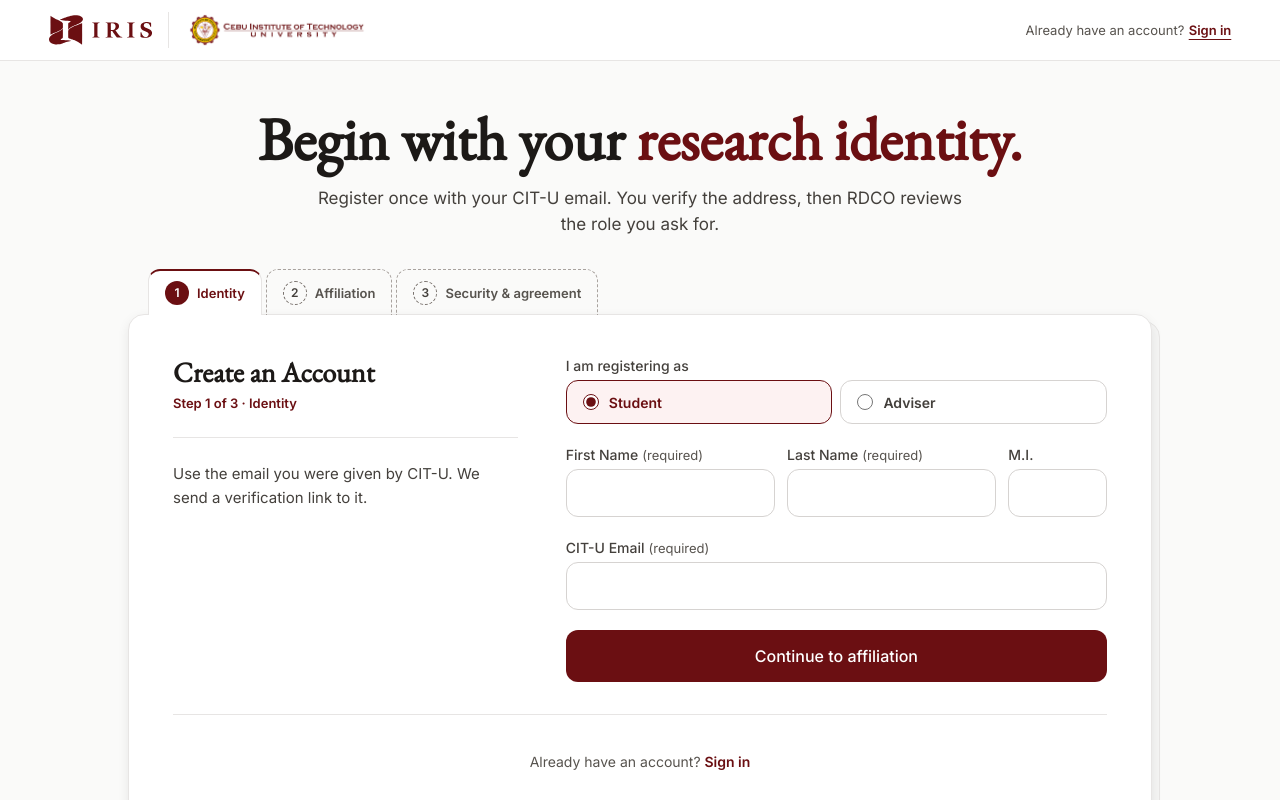
the register steps › moves focus to the step heading, and marks the finished step completed
Type " Juan " into the field labelled "First Name".
click(670, 493); type(" Juan ")  # box [566,469,775,517]
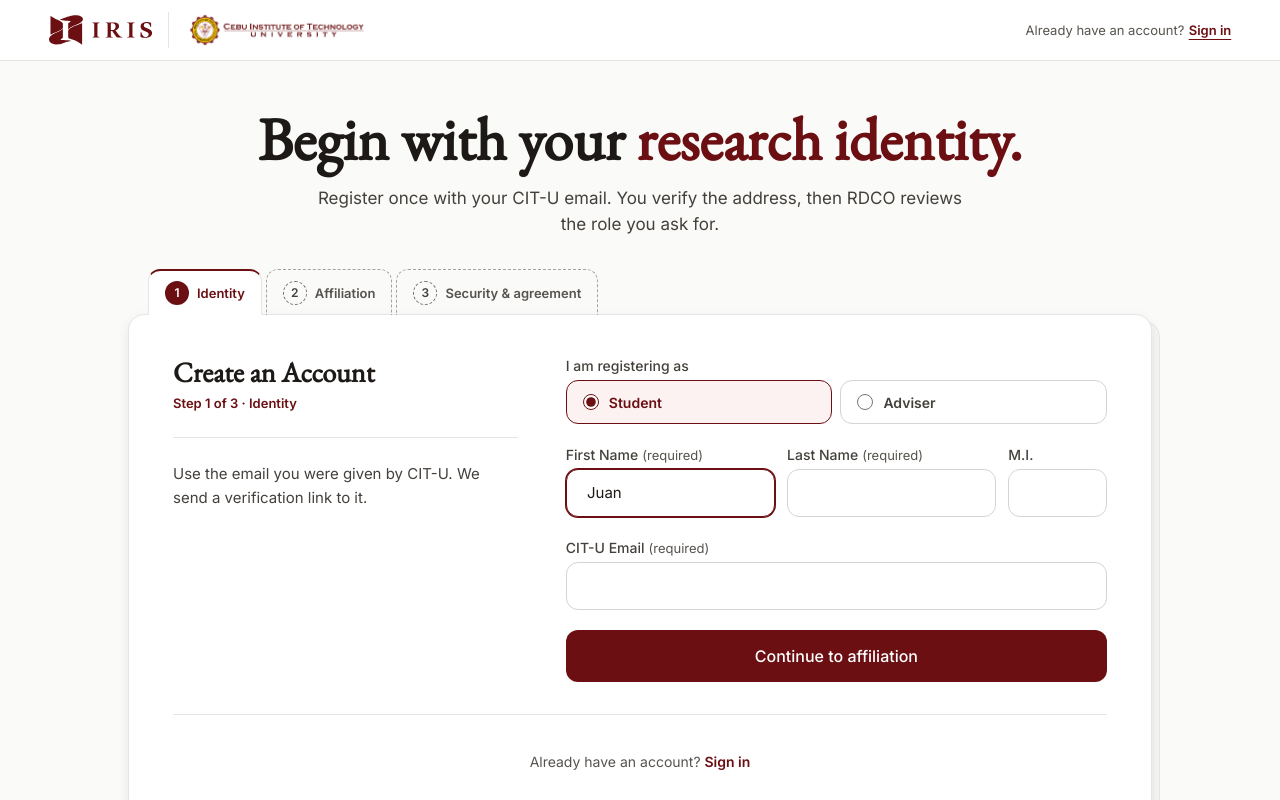
Type "Dela Cruz" into the field labelled "Last Name".
click(892, 493); type("Dela Cruz")  # box [787,469,996,517]
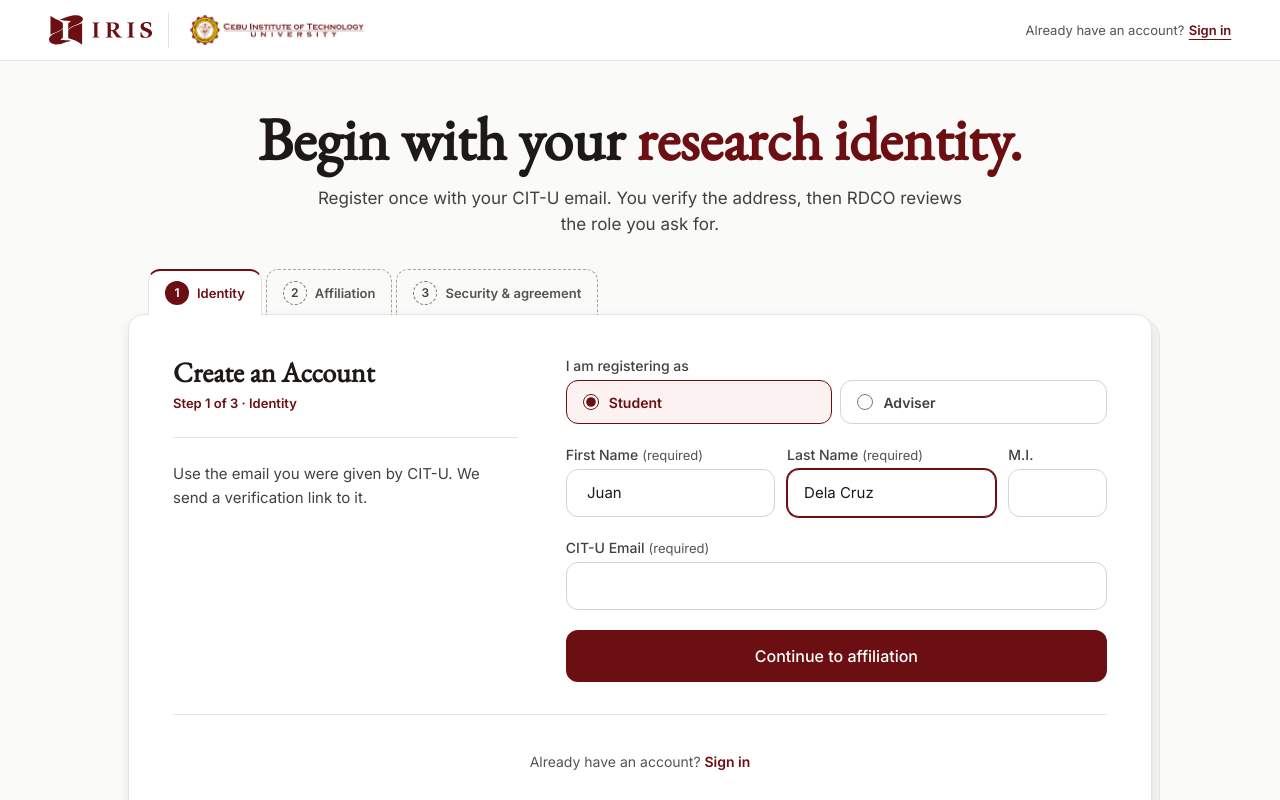
Type "S." into the field labelled "M.I.".
click(1058, 493); type("S.")  # box [1008,469,1107,517]
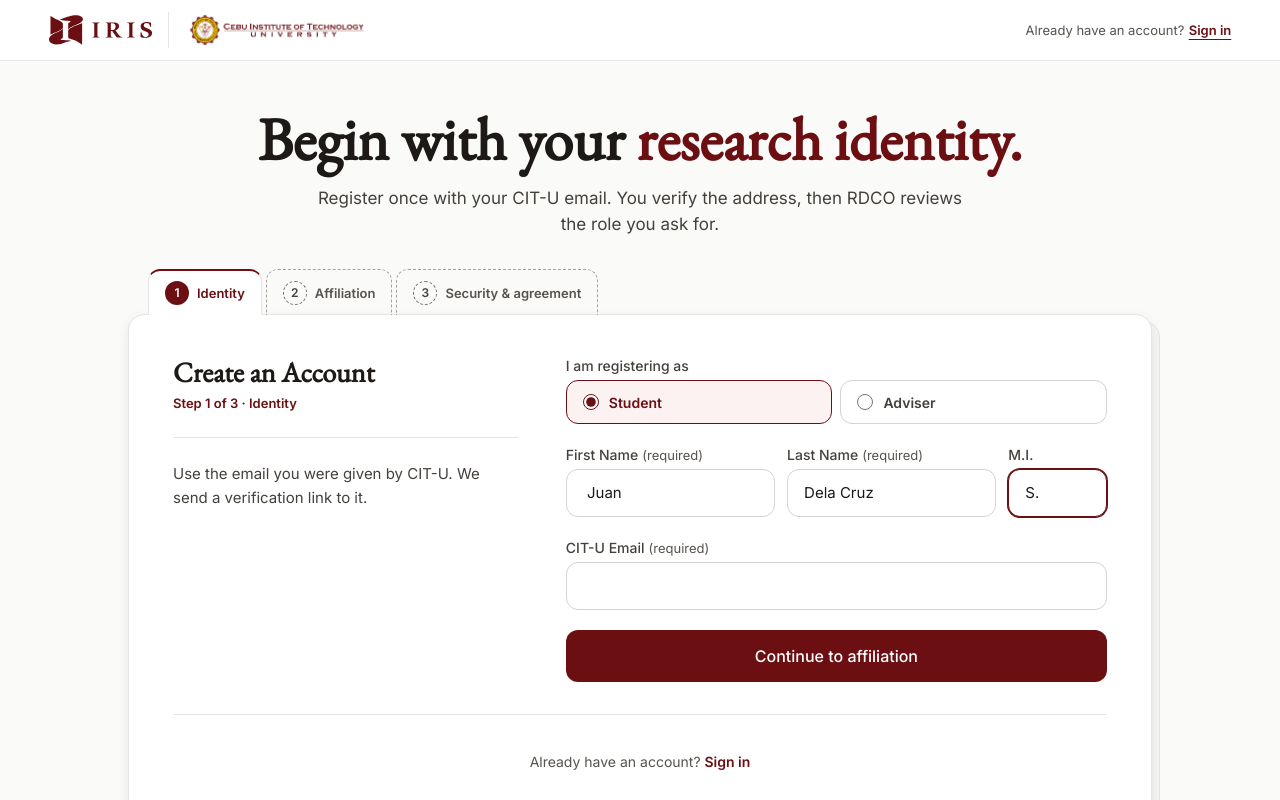
Type "juan@cit.edu" into the field labelled "CIT-U Email".
click(836, 586); type("juan@cit.edu")  # box [566,562,1107,610]
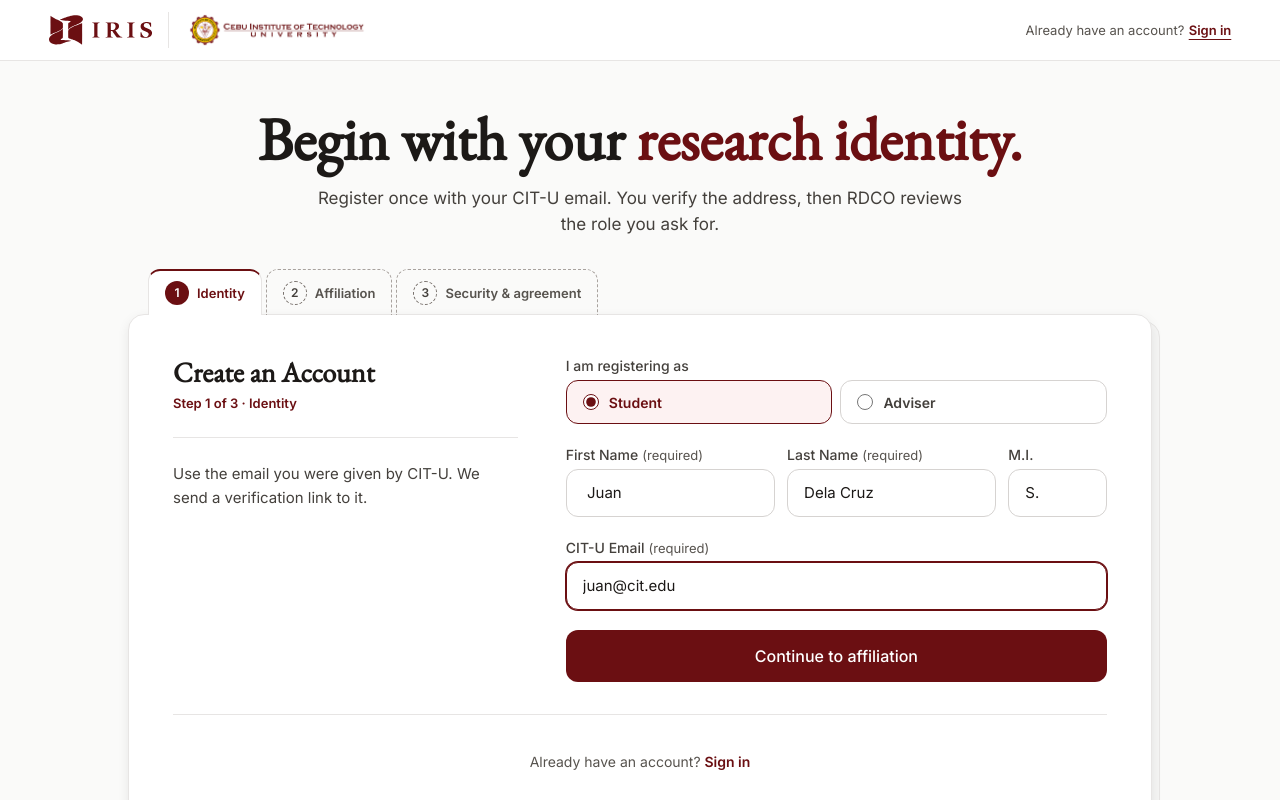
Click the button "Continue to affiliation".
click(836, 656)  # box [566,630,1107,682]
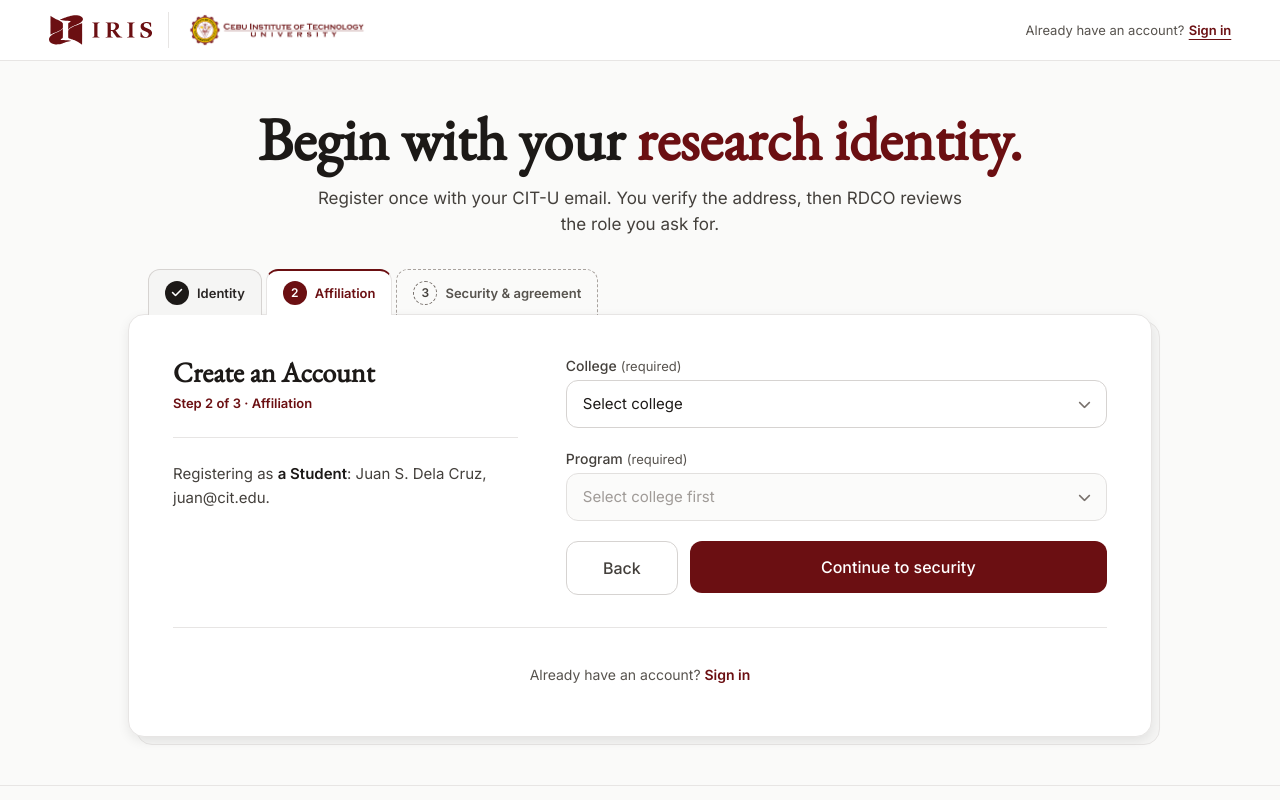
Check: the heading "Step 2 of 3 · Affiliation" is shown, box [173,395,312,411]
